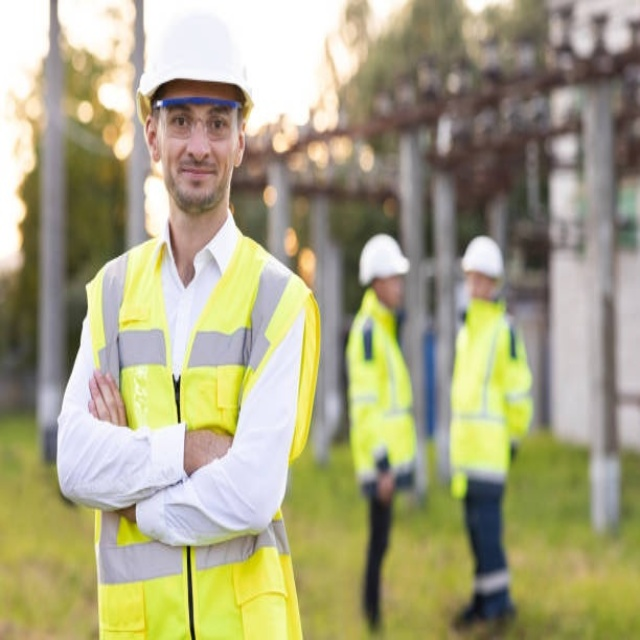Gafas: (156, 107, 240, 141)
Sin_guantes: (86, 362, 131, 425)
Sin_mascara: (176, 155, 224, 201)
